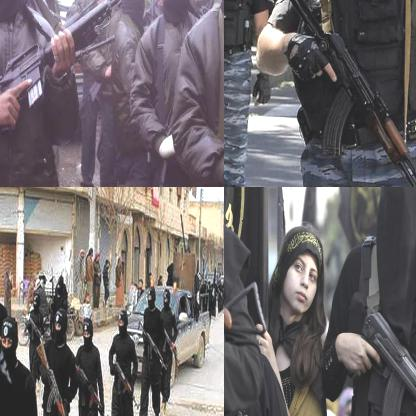rifle: (249, 0, 415, 186), (0, 0, 160, 136), (358, 306, 415, 415), (224, 277, 269, 415), (35, 340, 77, 415), (136, 318, 170, 376), (75, 362, 110, 415), (112, 362, 142, 412)
